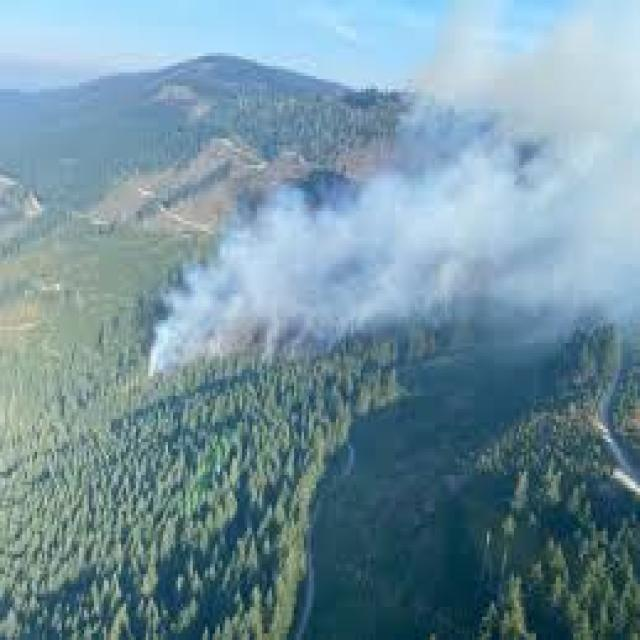Smoke: (138, 142, 640, 392), (408, 14, 638, 305)
